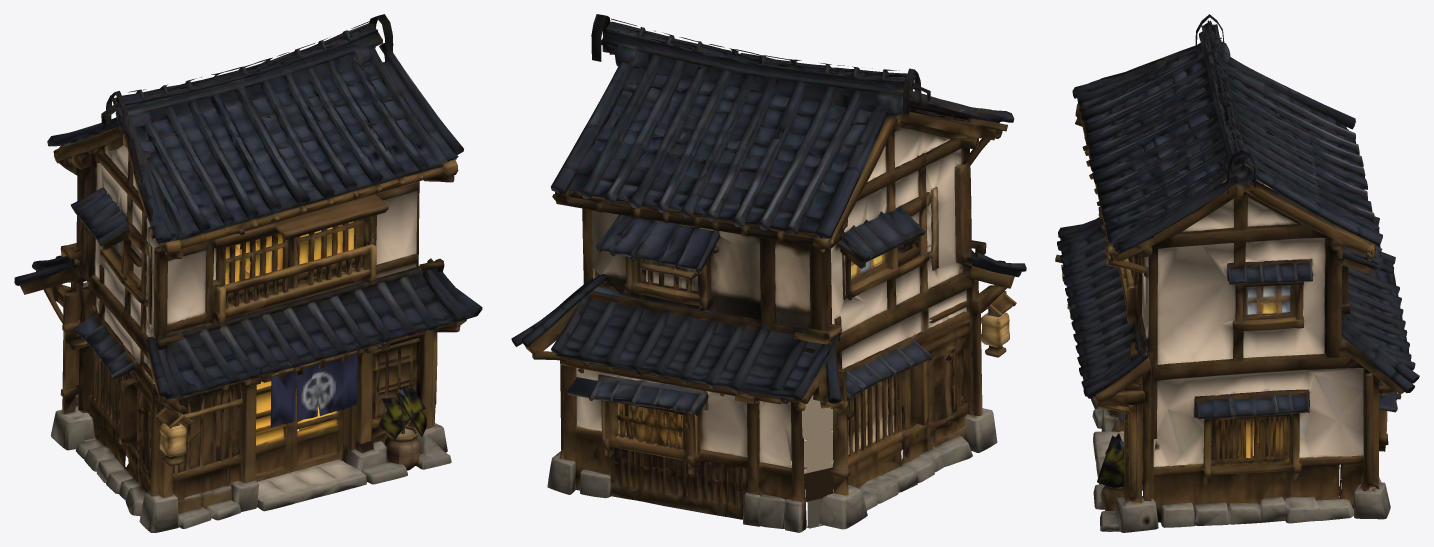
The model's file is compact_house.glb.
3 renders of one model, left to right at view 1: azimuth 30°, elevation 25°; view 2: azimuth 150°, elevation 25°; view 3: azimuth 270°, elevation 25°, orthographic. The views are drawn at different scales.
Parts seen in each view (by area): view 1: compact_house_ai_structure; view 2: compact_house_ai_structure; view 3: compact_house_ai_structure.
Part boxes in pixels (x1=…): compact_house_ai_structure: x1=14, y1=14, x2=482, y2=532; compact_house_ai_structure: x1=511, y1=14, x2=1026, y2=532; compact_house_ai_structure: x1=1055, y1=14, x2=1419, y2=532.
Size of the model in its own units: 2.65 by 3 by 2.57.
Materials: 1 (1 with a texture image).
